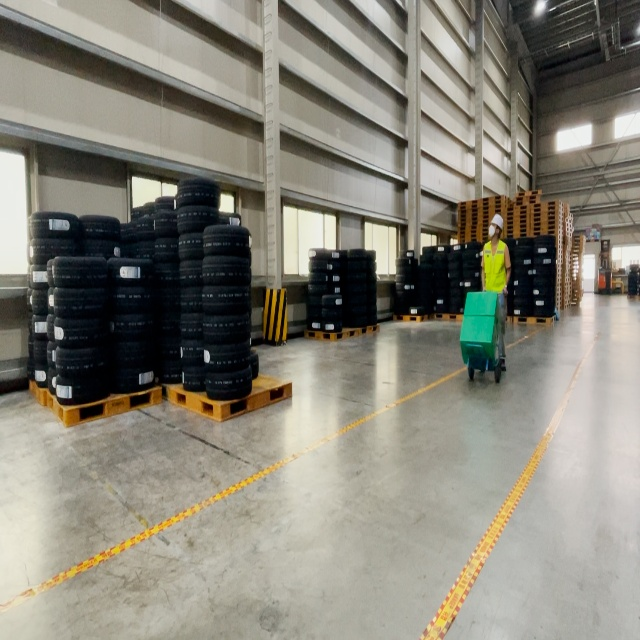Box: (459, 314, 498, 366), (463, 289, 500, 341)
Worker: (480, 213, 512, 371)
